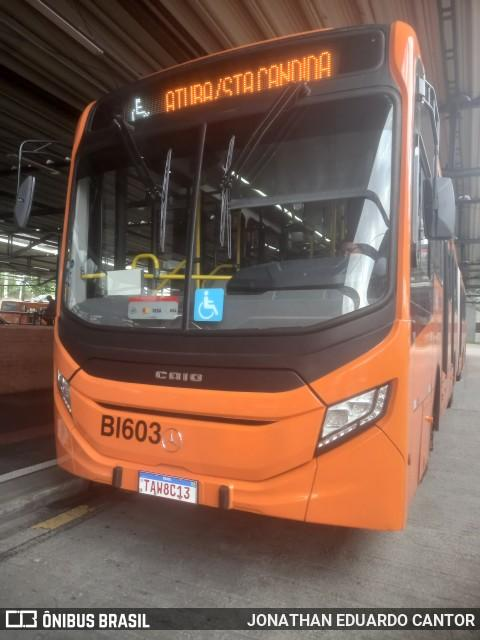ATUBA STACANDIDA: (158, 44, 339, 119)
